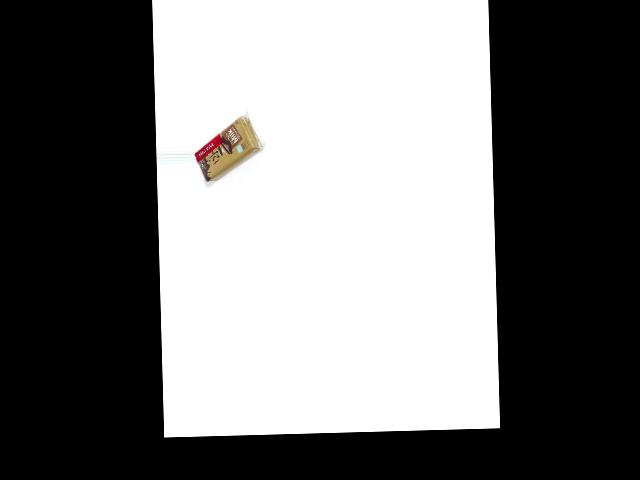chocolate: (194, 107, 263, 183)
